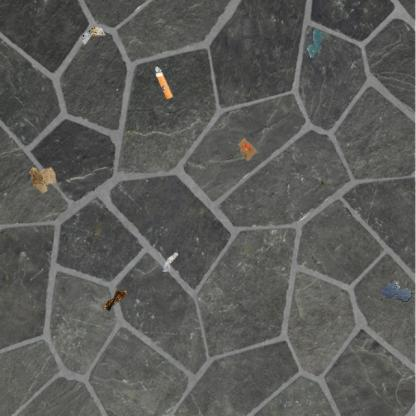dirty: (28, 165, 58, 195), (153, 66, 175, 101), (101, 287, 129, 314), (78, 25, 106, 47), (236, 136, 257, 161), (163, 252, 178, 272)
liquid: (381, 279, 412, 303), (306, 28, 326, 58)
